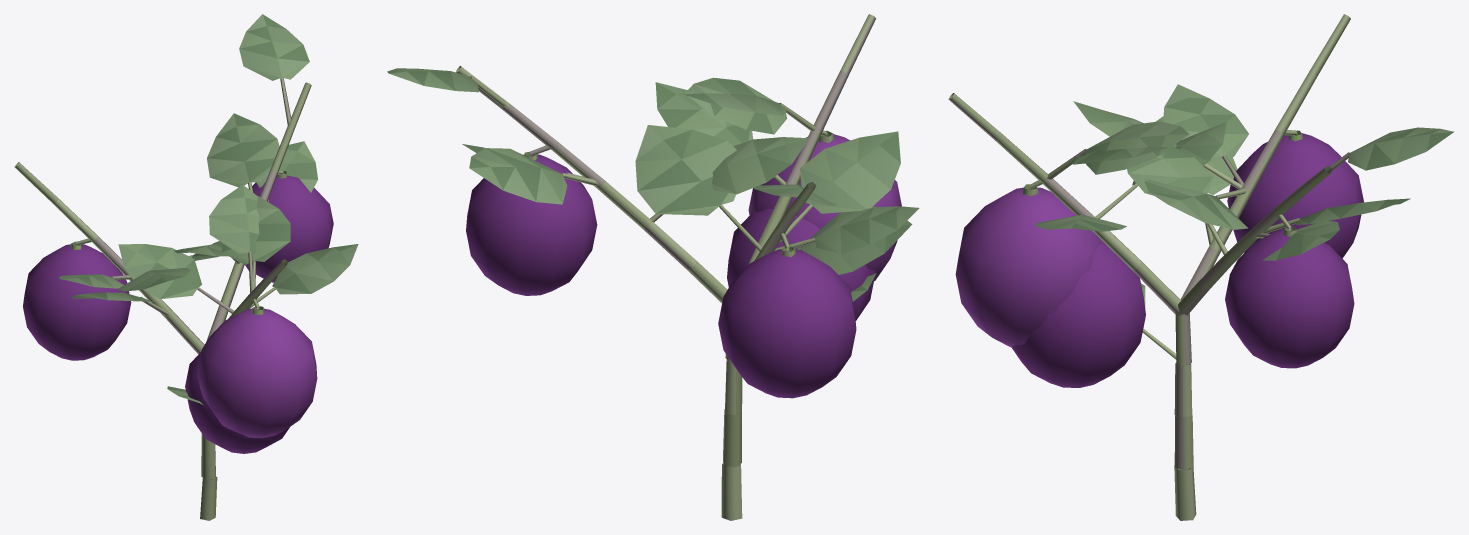
The model's file is aubergine_ronde_mur.glb.
3 views of the same model, side by side, from view 1: azimuth 30°, elevation 25°; view 2: azimuth 150°, elevation 25°; view 3: azimuth 270°, elevation 25° (orthographic). The views are drawn at different scales.
Parts seen in each view (by area): view 1: Aubergine_Fruits, Aubergine_Feuilles, Aubergine_Tiges; view 2: Aubergine_Fruits, Aubergine_Feuilles, Aubergine_Tiges; view 3: Aubergine_Fruits, Aubergine_Feuilles, Aubergine_Tiges.
Boxes of the visible parts, <box> form: Aubergine_Fruits: <box>23,175,333,453</box>; Aubergine_Feuilles: <box>59,14,358,404</box>; Aubergine_Tiges: <box>14,77,311,520</box>; Aubergine_Fruits: <box>466,134,901,398</box>; Aubergine_Feuilles: <box>387,68,919,301</box>; Aubergine_Tiges: <box>456,14,875,520</box>; Aubergine_Fruits: <box>955,133,1363,387</box>; Aubergine_Feuilles: <box>1035,84,1454,307</box>; Aubergine_Tiges: <box>948,14,1350,520</box>.
Bounding box in the file's own units: 0.6074 × 0.6938 × 0.6567.
